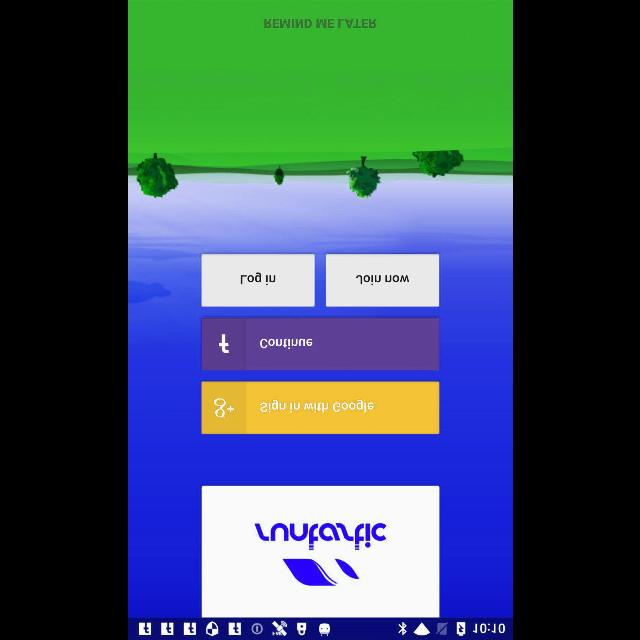image: (202, 486, 438, 616)
text: (262, 18, 376, 28)
textbutton: (201, 318, 439, 370), (201, 382, 439, 434), (200, 254, 314, 306), (325, 254, 439, 306)
uppertaskbar: (128, 617, 512, 639)
